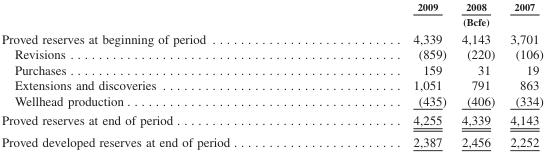table: (0, 0, 542, 148)
table column: (0, 0, 320, 148), (320, 0, 453, 148), (453, 0, 501, 148), (501, 0, 542, 148)
table column header: (0, 0, 542, 29)
table row: (0, 110, 542, 130), (0, 92, 542, 110), (0, 130, 542, 148), (0, 29, 542, 46), (0, 13, 542, 29), (0, 61, 542, 77), (0, 46, 542, 61), (0, 77, 542, 92), (0, 0, 542, 13)
table spanning cell: (320, 13, 542, 29)
